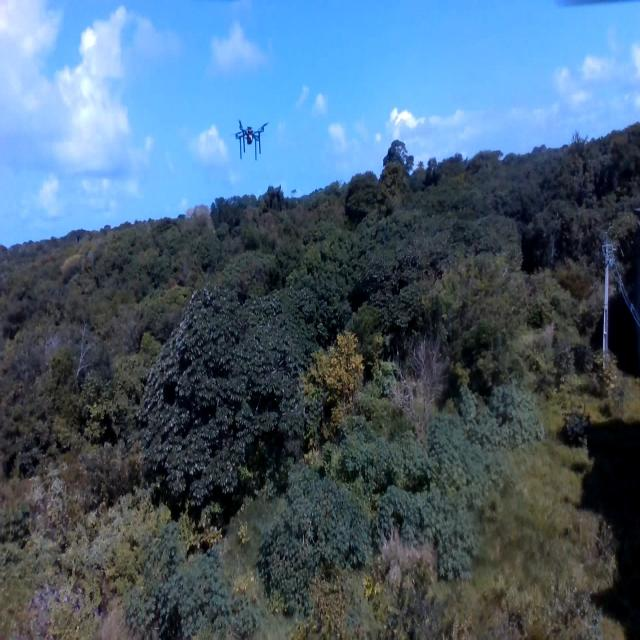-uav-: (228, 102, 275, 176)
